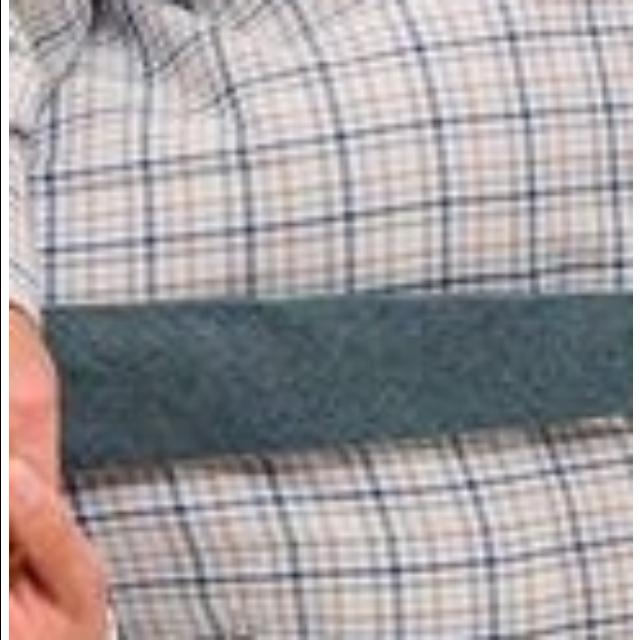wool: (8, 0, 632, 640)
